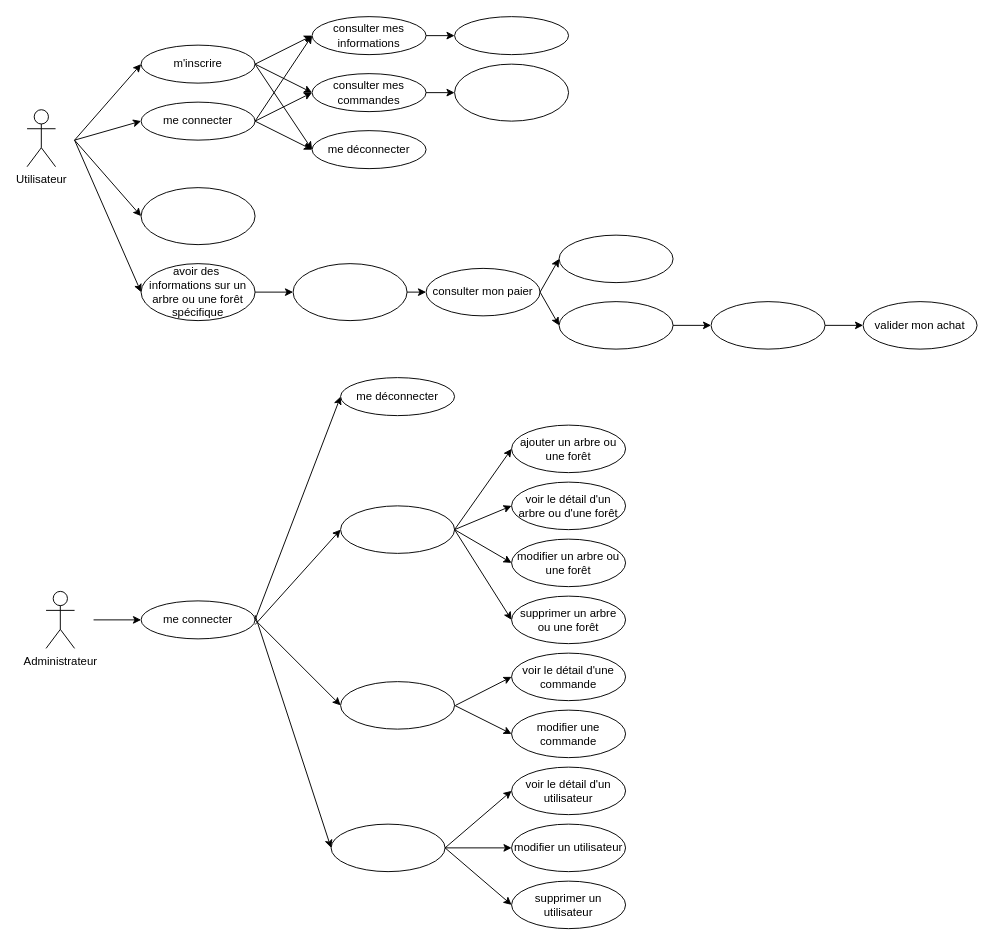
This 994x945 diagram has some shape labels left out. The centre of each missing label's shape, as x and y in pixels:
"ajouter un arbre à mon panier" goes at pixel 349 292.
"choisir mon mode de paiement" goes at pixel 767 325.
"consulter l'impact écologique de mes commandes" goes at pixel 511 92.
"consulter la liste des arbres ou des forêts" goes at pixel 397 529.
"consulter la liste des commandes" goes at pixel 397 705.
"consulter la liste des utilisateurs" goes at pixel 387 847.
"modifier mes informations" goes at pixel 511 35.
"modifier mon paier" goes at pixel 615 258.
"valider mon paier" goes at pixel 615 325.
"visualiser la liste des arbres et forêts" goes at pixel 197 216.
